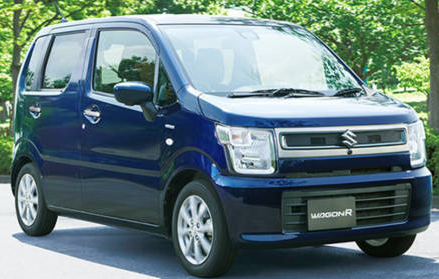car: (10, 15, 432, 275)
